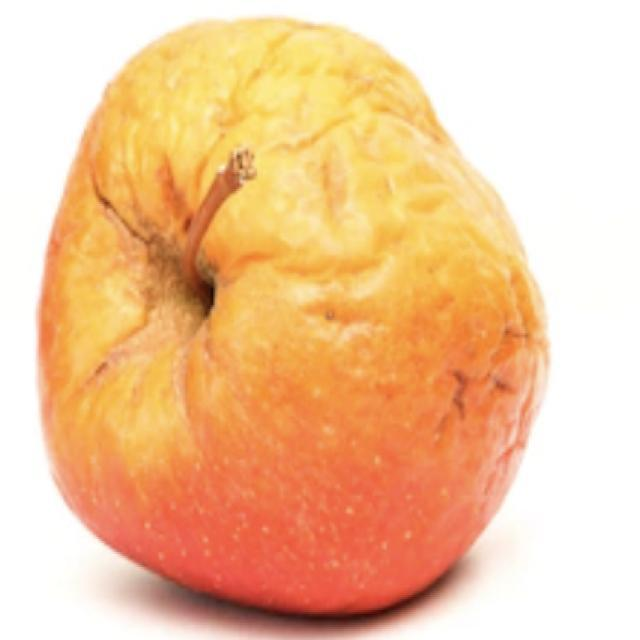Rotten: (60, 28, 543, 630)
